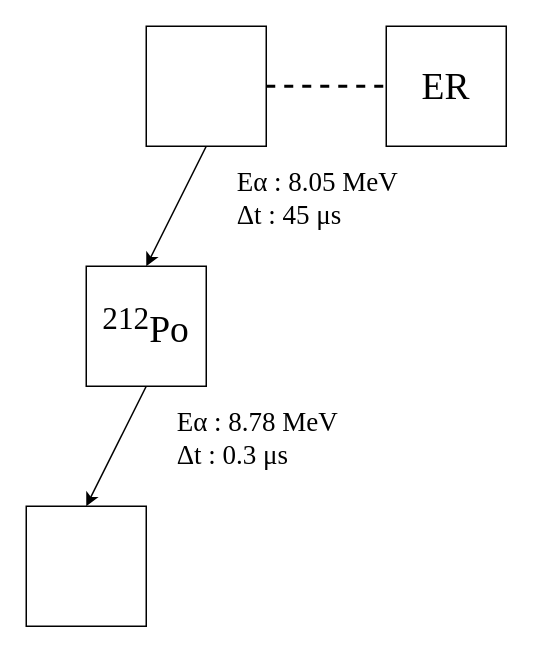
The diagram is 533 pixels wide and 653 high, and some of its shapes have lost their labels. Here are the shapes that lost their labels. From the top down, the centre of each, then its label:
(x=205, y=85): 216 Rn
(x=85, y=565): 208 Pb
